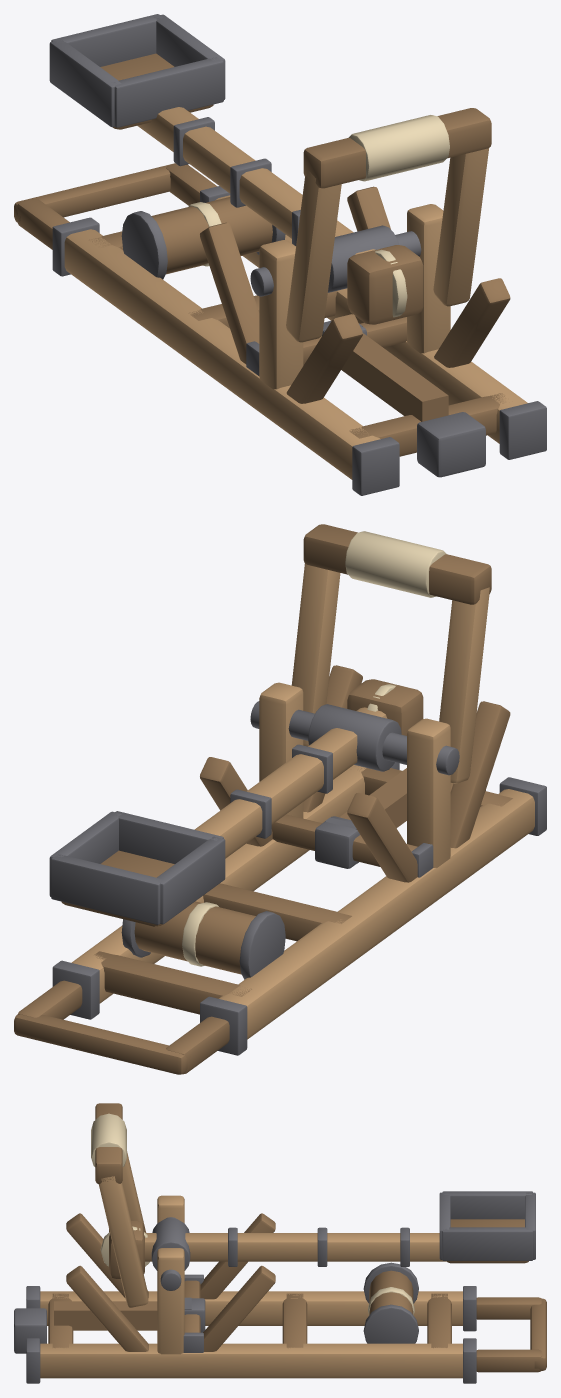
Rendered from catapult.glb.
3 views of the same model, one above another, from view 1: azimuth 30°, elevation 25°; view 2: azimuth 150°, elevation 25°; view 3: azimuth 270°, elevation 25° (orthographic). The views are drawn at different scales.
Parts seen in each view (by area): view 1: Frame, Arm, FrontPole, FrontGrip; view 2: Frame, Arm, FrontGrip, FrontPole; view 3: Frame, Arm, FrontPole, FrontGrip.
Boxes of the visible parts, bbox=[...] form: Frame: bbox=[14, 108, 546, 495]; Arm: bbox=[49, 14, 423, 324]; FrontPole: bbox=[324, 323, 448, 421]; FrontGrip: bbox=[246, 317, 406, 375]; Frame: bbox=[14, 524, 546, 1074]; Arm: bbox=[49, 679, 423, 926]; FrontGrip: bbox=[271, 814, 433, 877]; FrontPole: bbox=[324, 768, 406, 863]; Frame: bbox=[14, 1103, 546, 1383]; Arm: bbox=[100, 1191, 535, 1278]; FrontPole: bbox=[54, 1297, 191, 1330]; FrontGrip: bbox=[183, 1274, 205, 1352].
Size of the model in its own units: 1.2 by 1.79 by 3.87.
